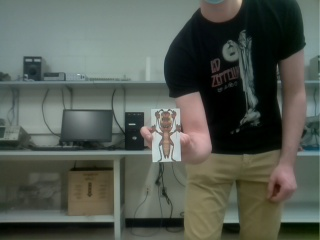Angry: (151, 109, 181, 162)
